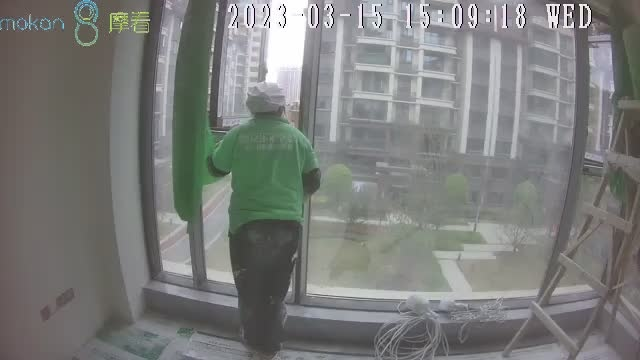people: (207, 81, 321, 359)
window: (149, 2, 623, 306)
